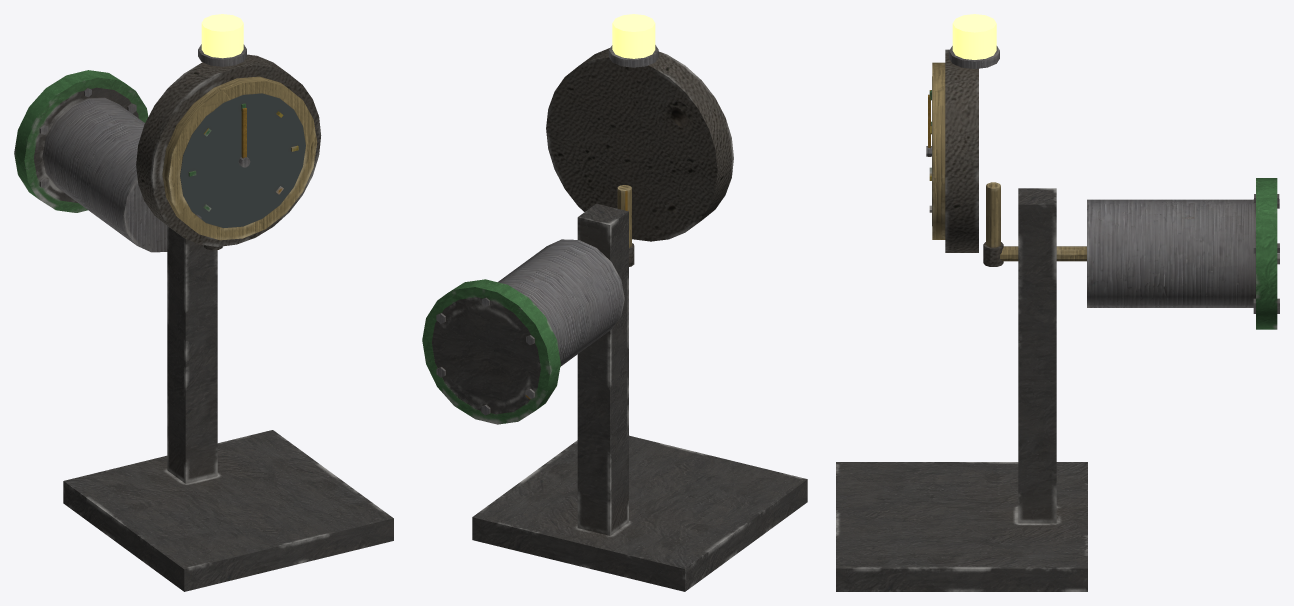
Rendered from feGauge_HD.fbx.
3 views of the same model, side by side, from view 1: azimuth 30°, elevation 25°; view 2: azimuth 150°, elevation 25°; view 3: azimuth 270°, elevation 25° (orthographic). The views are drawn at different scales.
Parts seen in each view (by area): view 1: feGauge_Base; view 2: feGauge_Base; view 3: feGauge_Base.
Part boxes in pixels (left/top/right/bottom): feGauge_Base: left=14, top=14, right=393, bottom=591; feGauge_Base: left=422, top=14, right=807, bottom=591; feGauge_Base: left=836, top=14, right=1279, bottom=591.
Size of the model in its own units: 0.4012 by 0.9056 by 0.7066.
Materials: 2 (1 with a texture image).
